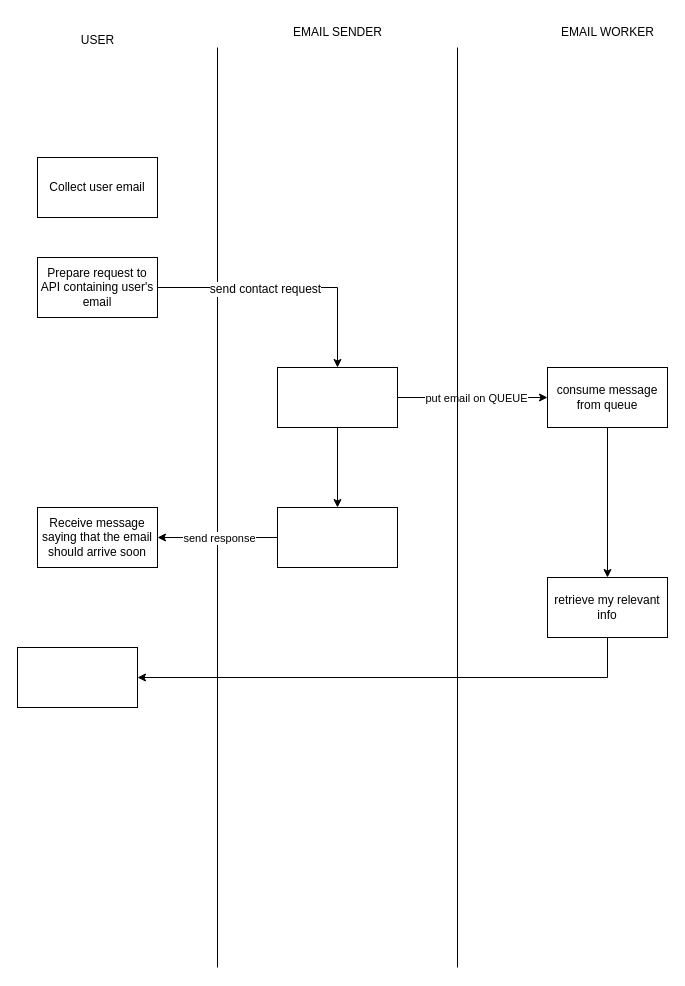
Image size: 685x986. Some labels were removed from this diagram. Each missing label, with the centre of its shape:
"receive user's email" goes at (x=337, y=397).
"Receives email message containing my info" goes at (x=77, y=677).
"Store user email on db" goes at (x=337, y=537).
